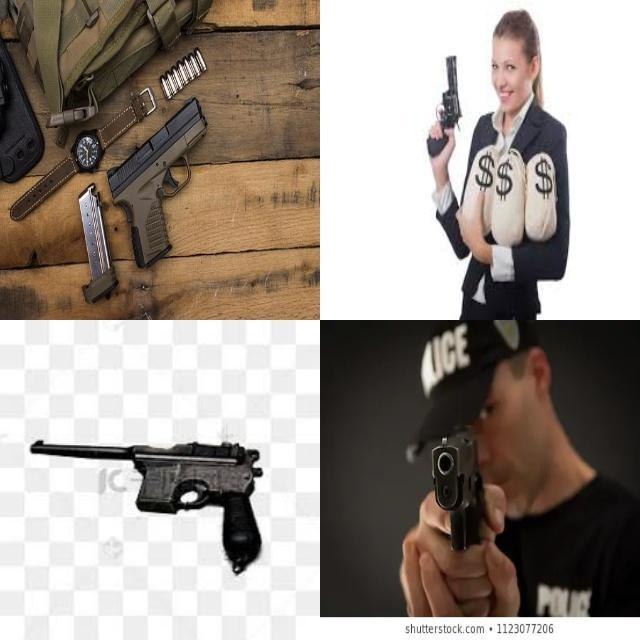gun-knife-thesis - v11 Yolov5 augmented: (26, 431, 263, 579), (103, 96, 206, 271), (426, 431, 483, 578), (422, 49, 462, 154)
